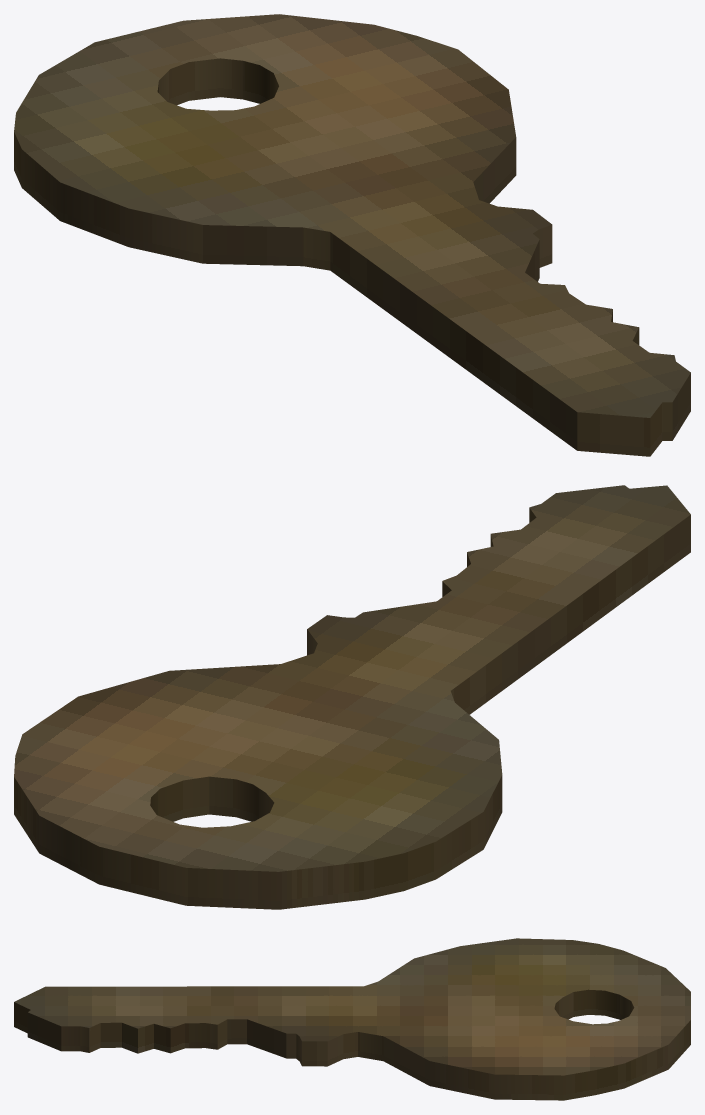
The model's file is key_mp_1.glb.
The picture shows the model from 3 angles, top to bottom: view 1: azimuth 30°, elevation 25°; view 2: azimuth 150°, elevation 25°; view 3: azimuth 270°, elevation 25°; orthographic projection. The views are drawn at different scales.
Visible parts, largest first — view 1: key_mp_1; view 2: key_mp_1; view 3: key_mp_1.
Boxes of the visible parts, <box> form: key_mp_1: <box>14,14,690,456</box>; key_mp_1: <box>14,485,690,909</box>; key_mp_1: <box>14,938,690,1100</box>.
Size of the model in its own units: 0.0352 by 0.00301 by 0.0735.
Materials: 1 (1 with a texture image).
